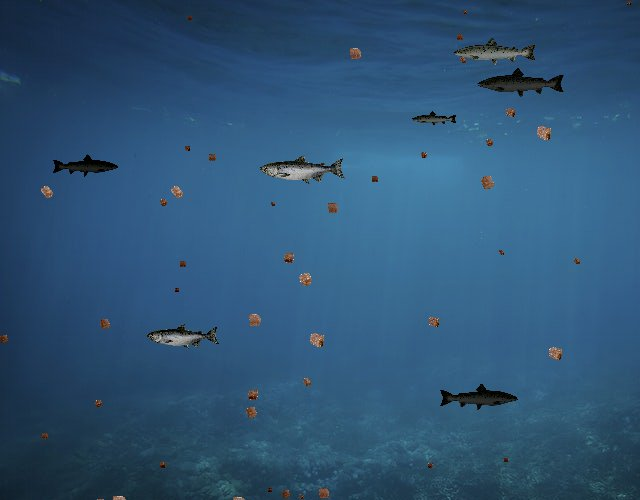Fish: (477, 66, 567, 99), (452, 36, 538, 67), (260, 154, 346, 185), (439, 382, 520, 411), (148, 324, 221, 350), (51, 154, 119, 178), (411, 110, 458, 127)
Pellet: (241, 306, 268, 333), (343, 41, 368, 66), (242, 384, 264, 406), (368, 172, 382, 186), (424, 460, 437, 473), (181, 142, 194, 155), (460, 6, 470, 16)
